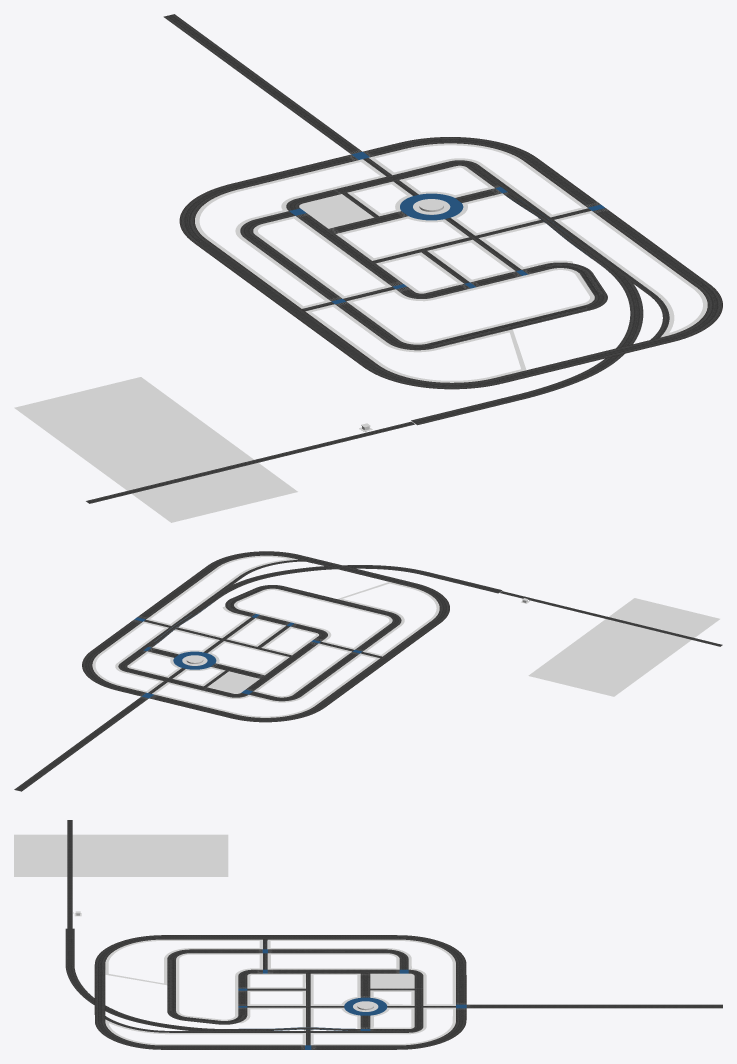
File: Env_3.FBX
The picture shows the model from 3 angles, top to bottom: view 1: azimuth 30°, elevation 25°; view 2: azimuth 150°, elevation 25°; view 3: azimuth 270°, elevation 25°; orthographic projection. The views are drawn at different scales.
Visible parts, largest first — view 1: Road, Plane001, Line001, Line016, Line010, Line015, Line004, Shape006, Line008, Line011; view 2: Road, Plane001, Line001, Line010, Line016, Line015, Line004, Shape006, Line008, Line011; view 3: Road, Plane001, Line001, Line015, Line016, Line004, Line010, Shape006, Line008, Line011.
Boxes of the visible parts, x1,y1,x2,y2 form: Road: (86,14,722,503); Plane001: (14,377,297,522); Line001: (195,159,386,308); Line016: (305,304,526,382); Line010: (346,268,594,344); Line015: (554,210,707,337); Line004: (369,143,587,217); Shape006: (299,194,373,228); Line008: (253,216,391,298); Line011: (336,216,468,260); Road: (14,551,722,791); Plane001: (528,598,719,696); Line001: (152,653,379,717); Line010: (234,588,392,649); Line016: (337,582,439,656); Line015: (146,555,297,625); Line004: (92,621,168,692); Shape006: (207,671,259,693); Line008: (253,643,351,697); Line011: (207,641,289,675); Road: (65,820,722,1049); Plane001: (14,834,228,876); Line001: (267,939,455,1005); Line015: (105,1019,305,1045); Line016: (105,939,262,985); Line004: (310,1007,455,1045); Line010: (176,953,262,1020); Shape006: (370,973,414,988); Line008: (267,953,399,969); Line011: (310,973,360,1005).
Size of the model in its own units: 962509 by 8353 by 1255369.
